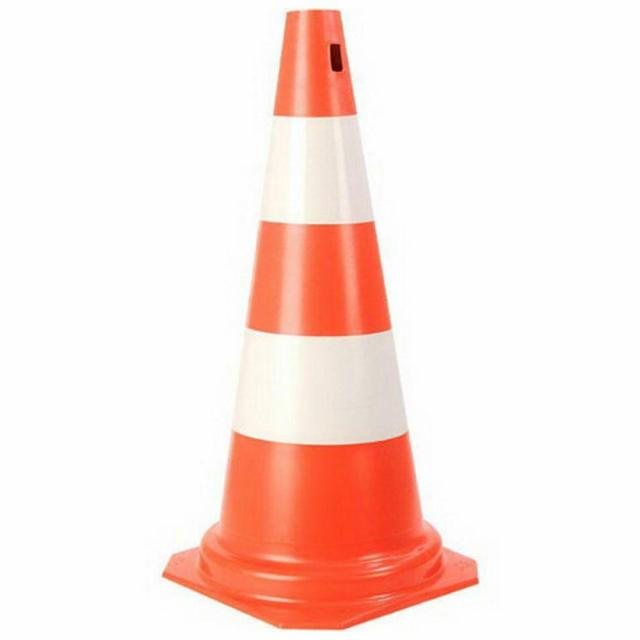cone: (165, 0, 508, 640)
